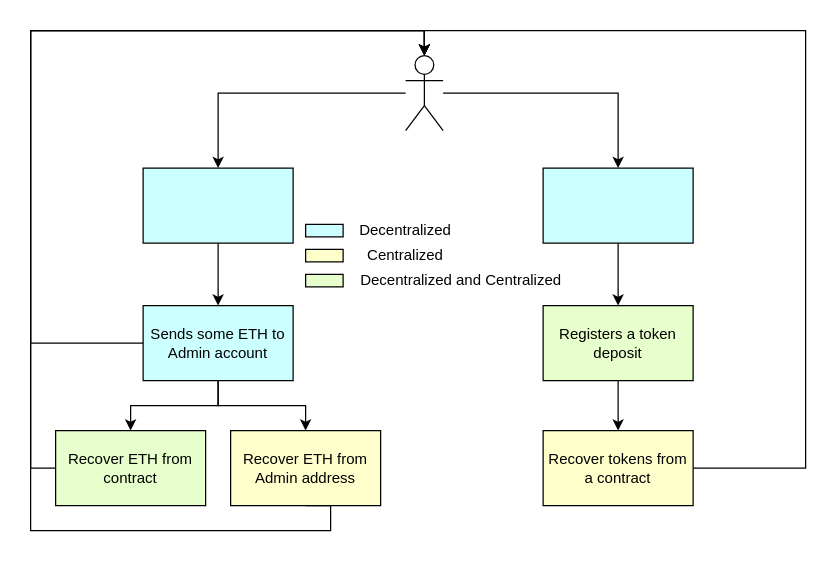
The diagram is 838 pixels wide and 563 high, and some of its shapes have lost their labels. The centre of each missing label's shape, as x and y in pixels:
"Deposits ETH to contract address" belongs at point (217, 205).
"Deposits token to contract Address" belongs at point (617, 205).
"User" belongs at point (423, 92).
